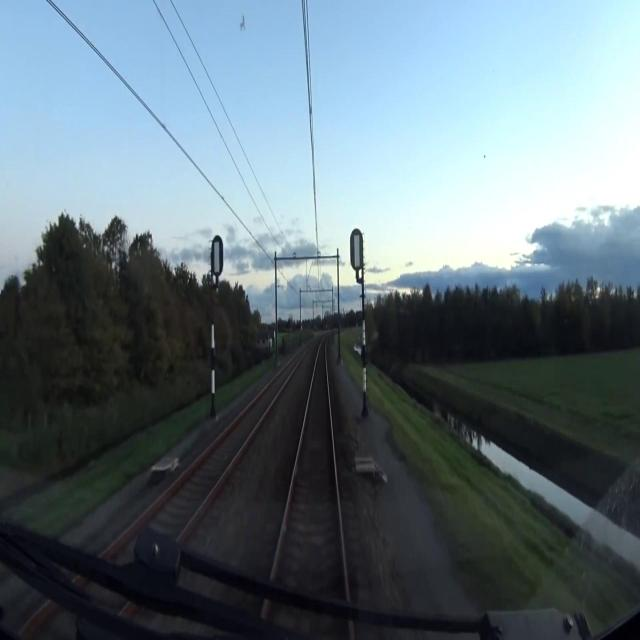rail-track: (116, 347, 306, 552), (274, 340, 345, 598)
